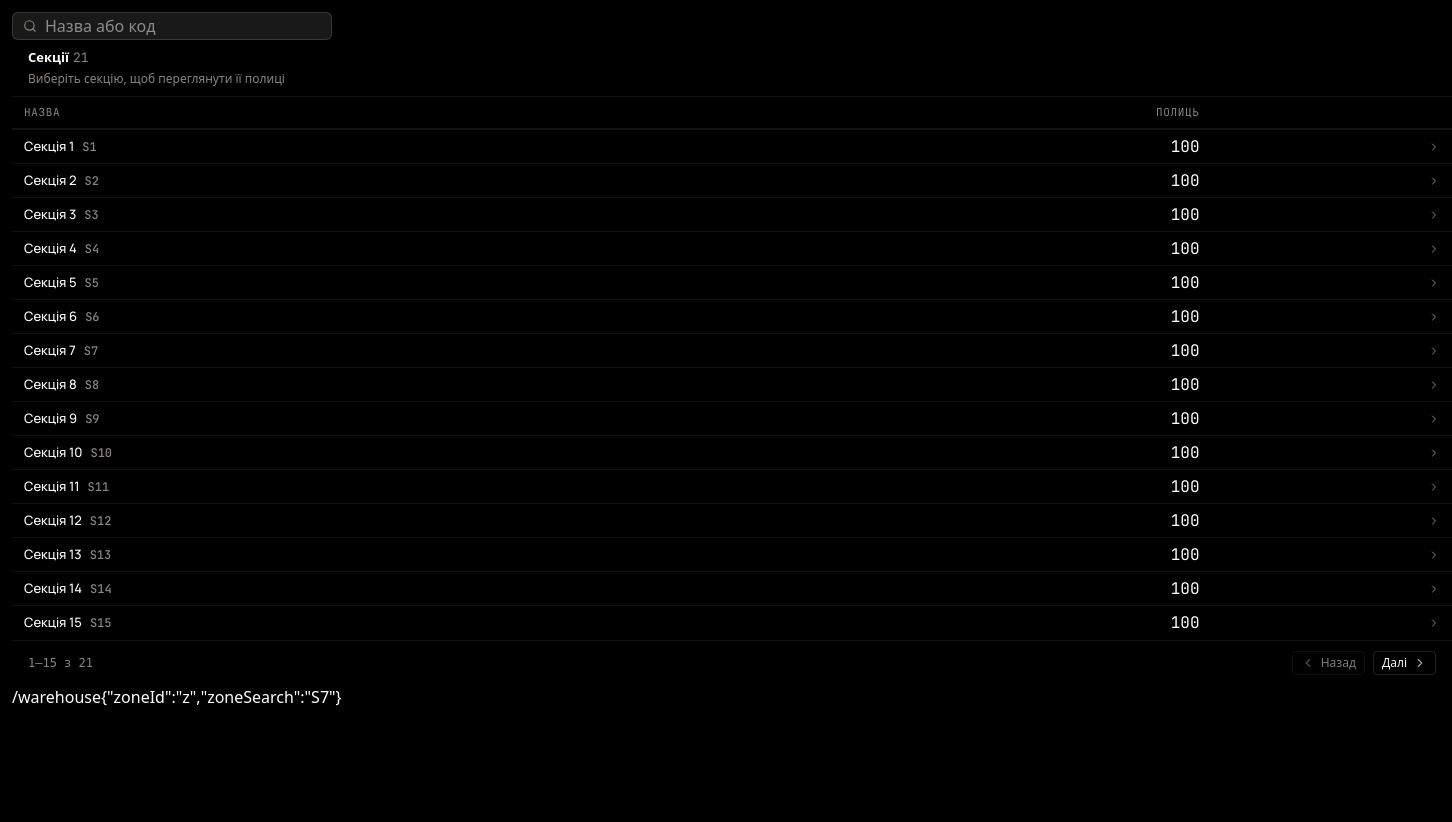
location resource navigation › searches sections and carries search into section navigation state
Type "S7" into the search field.
click(183, 26); type("S7")  # box 45,14 -> 321,38
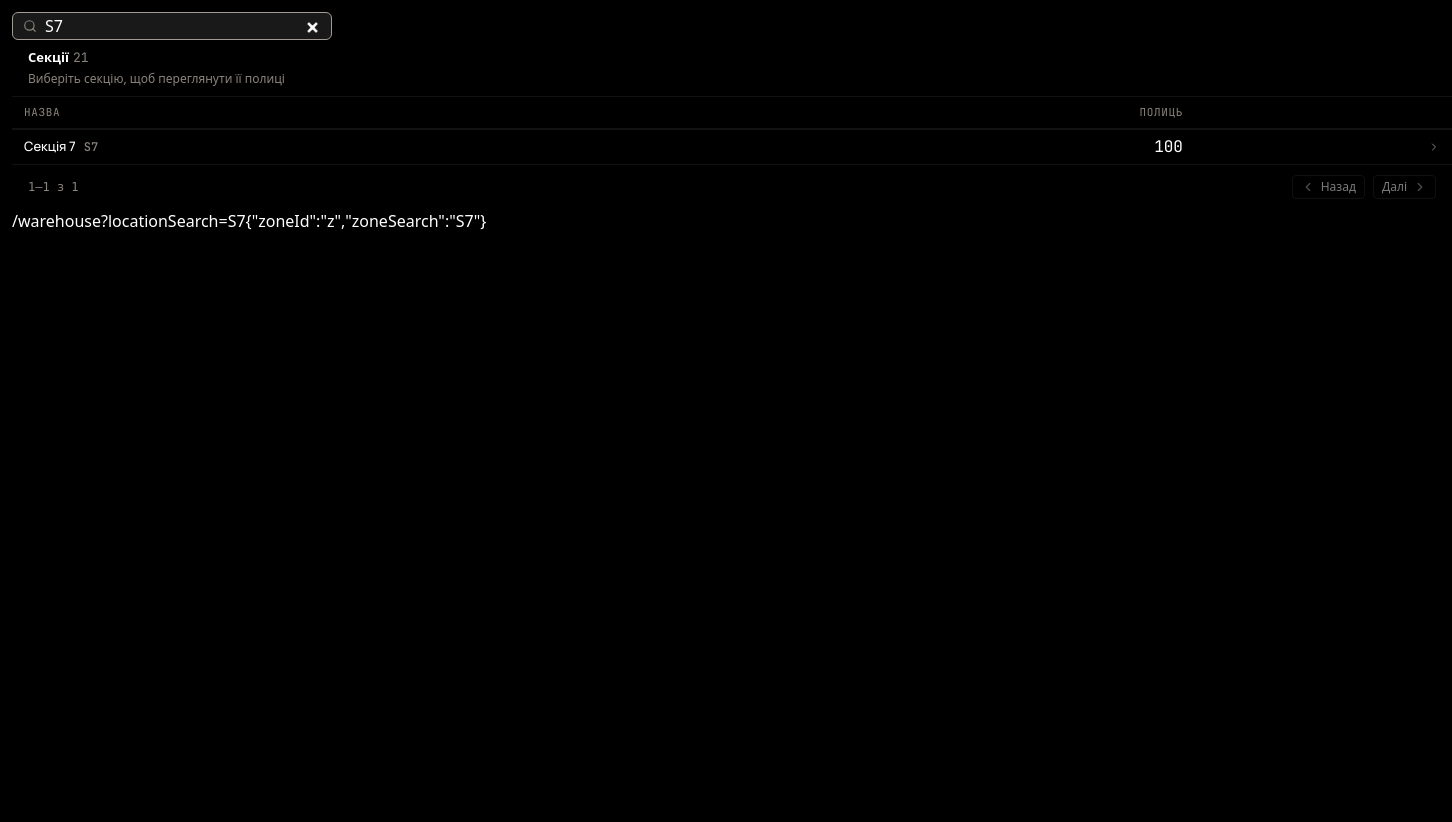
Result: the number of links "Секція 7 S7" is 1
Click the link with aria-label "Секція 7, S7".
click(61, 146)  # box 24,137 -> 98,155
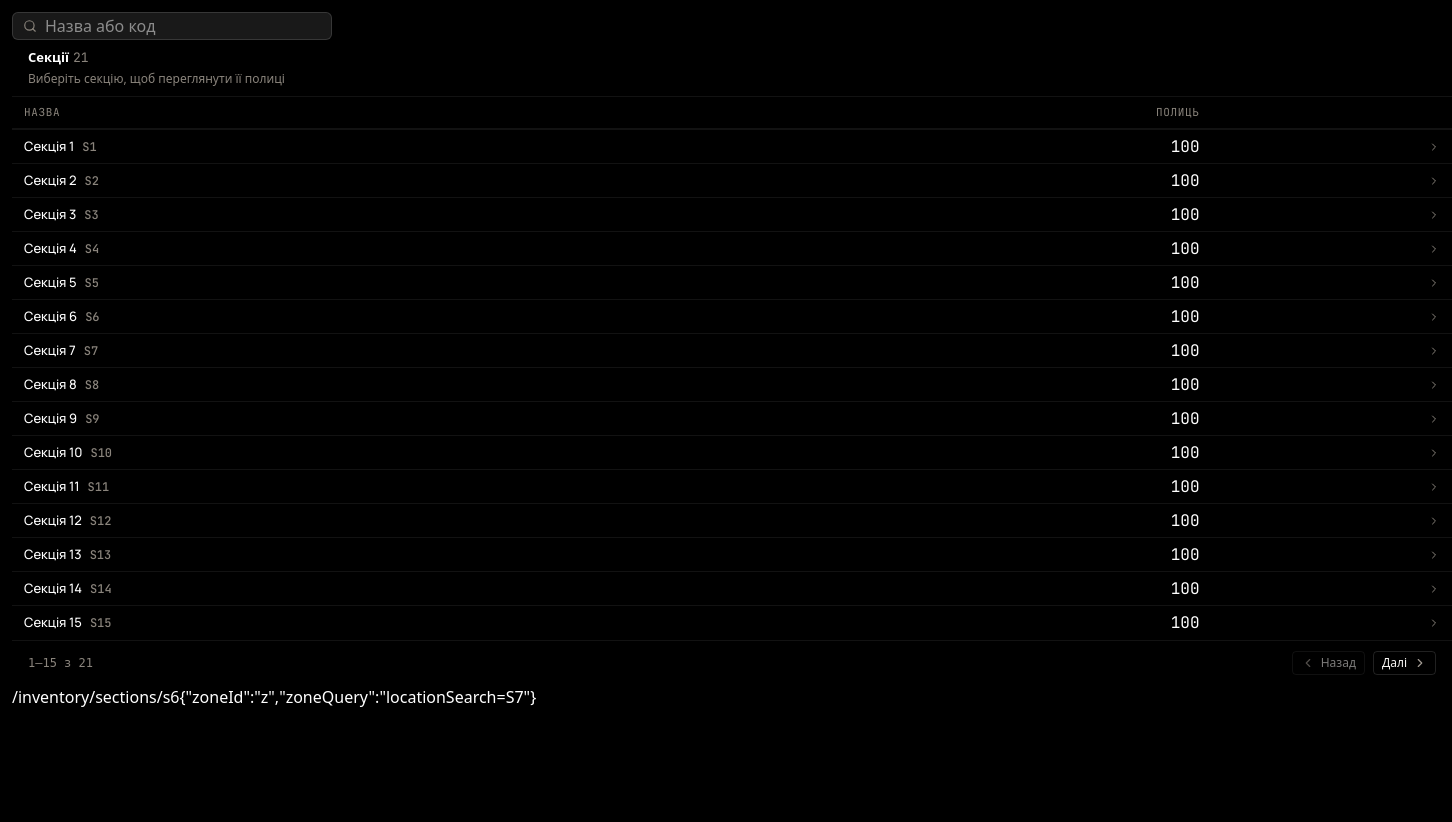
Result: the text with test id "url" shows "locationSearch=S7" at 180,686 -> 536,708
Result: the text with test id "url" shows "/inventory/sections/s6" at 12,686 -> 180,708
